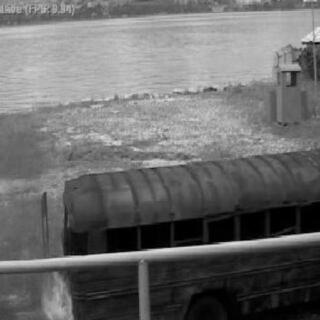Fire: (3, 222, 79, 318)
